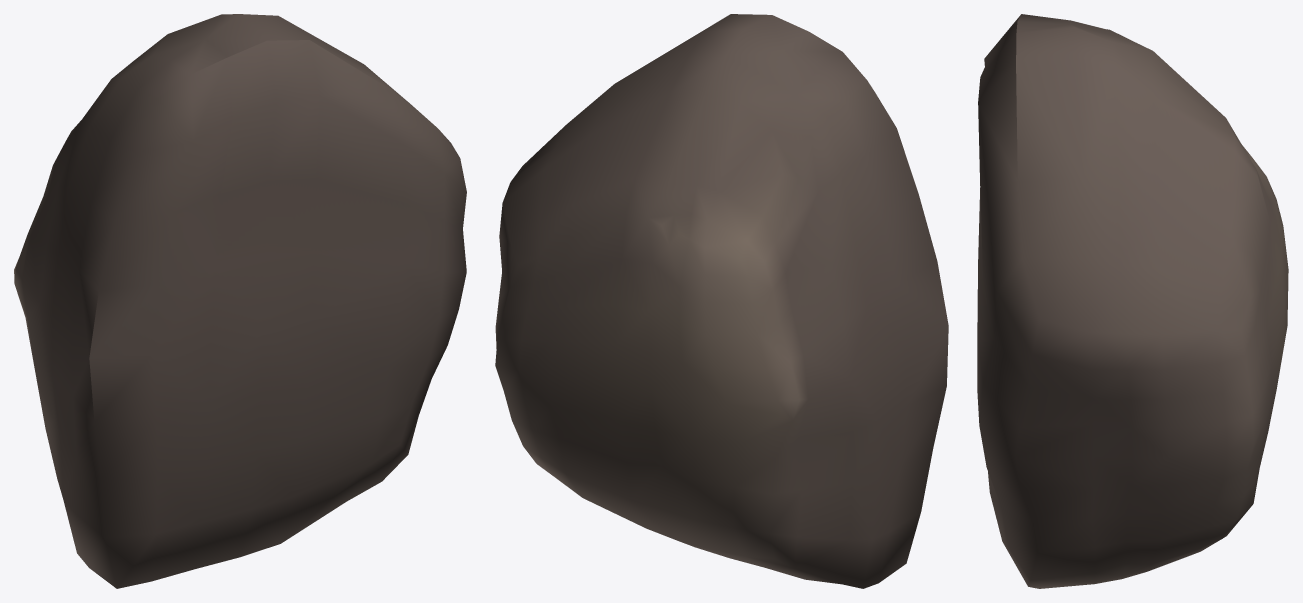
File: RockMedium.003.glb
3 renders of one model, left to right at view 1: azimuth 30°, elevation 25°; view 2: azimuth 150°, elevation 25°; view 3: azimuth 270°, elevation 25°, orthographic. The views are drawn at different scales.
Visible parts, largest first — view 1: RockMedium.003; view 2: RockMedium.003; view 3: RockMedium.003.
Boxes of the visible parts, bbox=[...] form: RockMedium.003: bbox=[14, 14, 466, 588]; RockMedium.003: bbox=[495, 14, 948, 588]; RockMedium.003: bbox=[977, 14, 1288, 588].
Bounding box in the file's own units: 316 × 402 × 206.
